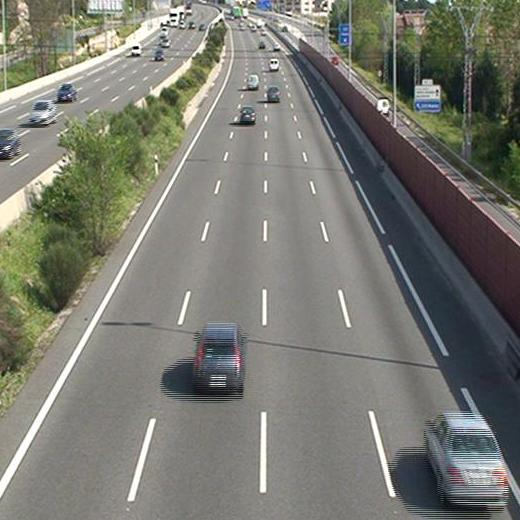car: (425, 415, 508, 508), (195, 324, 241, 391), (240, 106, 256, 124), (267, 85, 280, 103)
van: (246, 74, 259, 90), (268, 57, 279, 72)
